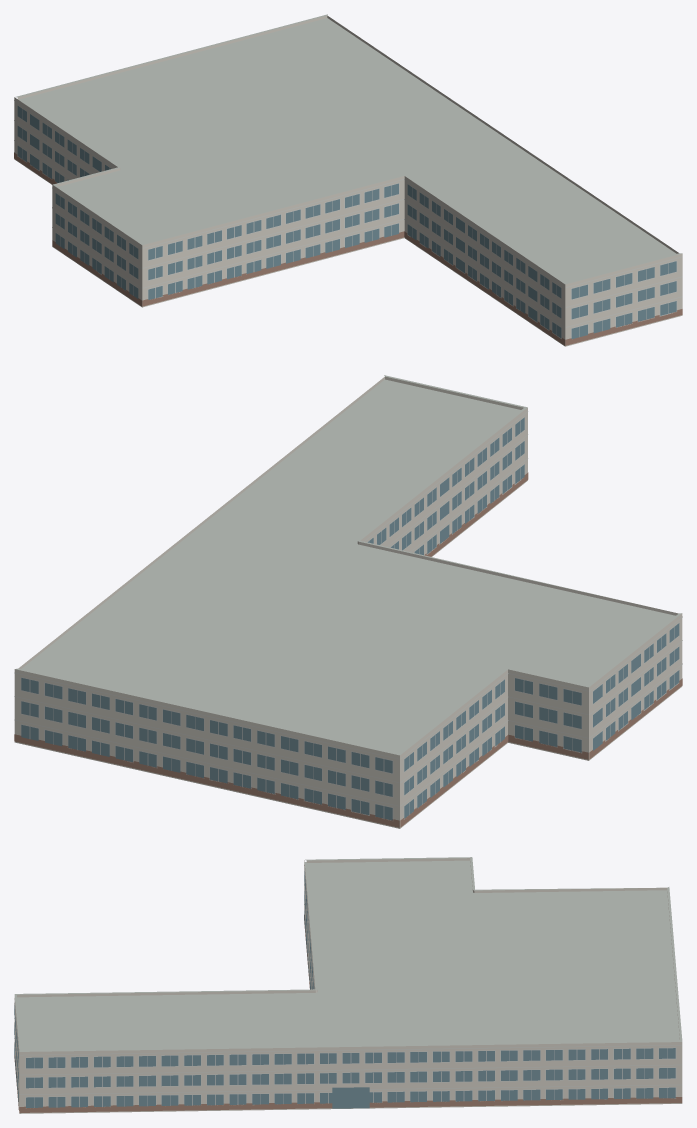
The model's file is public-d0737ff2-99b1-479d-b95f-5f36e8dfd45b.glb.
3 views of the same model, one above another, from view 1: azimuth 30°, elevation 25°; view 2: azimuth 150°, elevation 25°; view 3: azimuth 270°, elevation 25° (orthographic). The views are drawn at different scales.
Parts seen in each view (by area): view 1: public-d0737ff2-99b1-479d-b95f-5f36e8dfd45b; view 2: public-d0737ff2-99b1-479d-b95f-5f36e8dfd45b; view 3: public-d0737ff2-99b1-479d-b95f-5f36e8dfd45b.
Boxes of the visible parts, <box> form: public-d0737ff2-99b1-479d-b95f-5f36e8dfd45b: <box>14,14,682,346</box>; public-d0737ff2-99b1-479d-b95f-5f36e8dfd45b: <box>14,375,682,828</box>; public-d0737ff2-99b1-479d-b95f-5f36e8dfd45b: <box>14,857,682,1113</box>.
Size of the model in its own units: 61.93 by 9.15 by 89.66.
